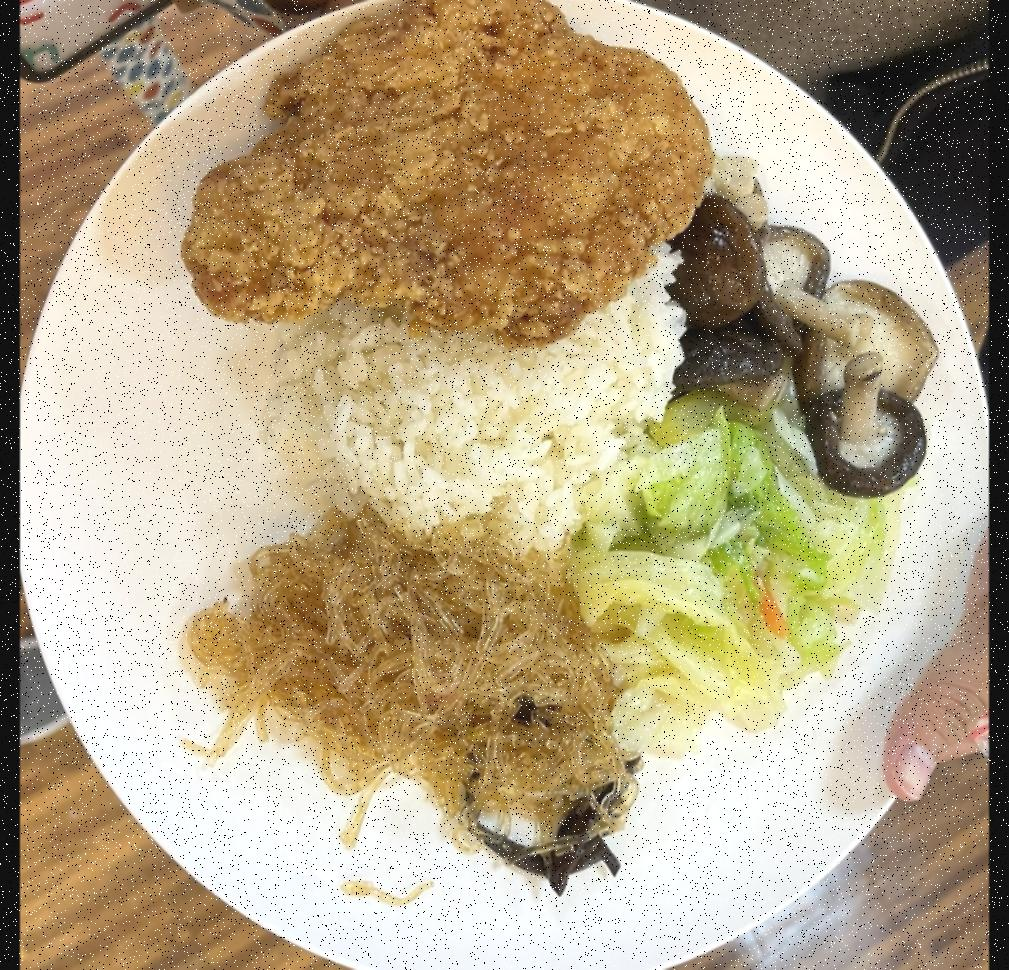kara chicken leg steak: (182, 0, 725, 349)
plate: (19, 0, 983, 970)
side dish: (179, 526, 641, 883), (577, 401, 891, 759), (675, 153, 945, 489)
white rice: (269, 236, 690, 543)
